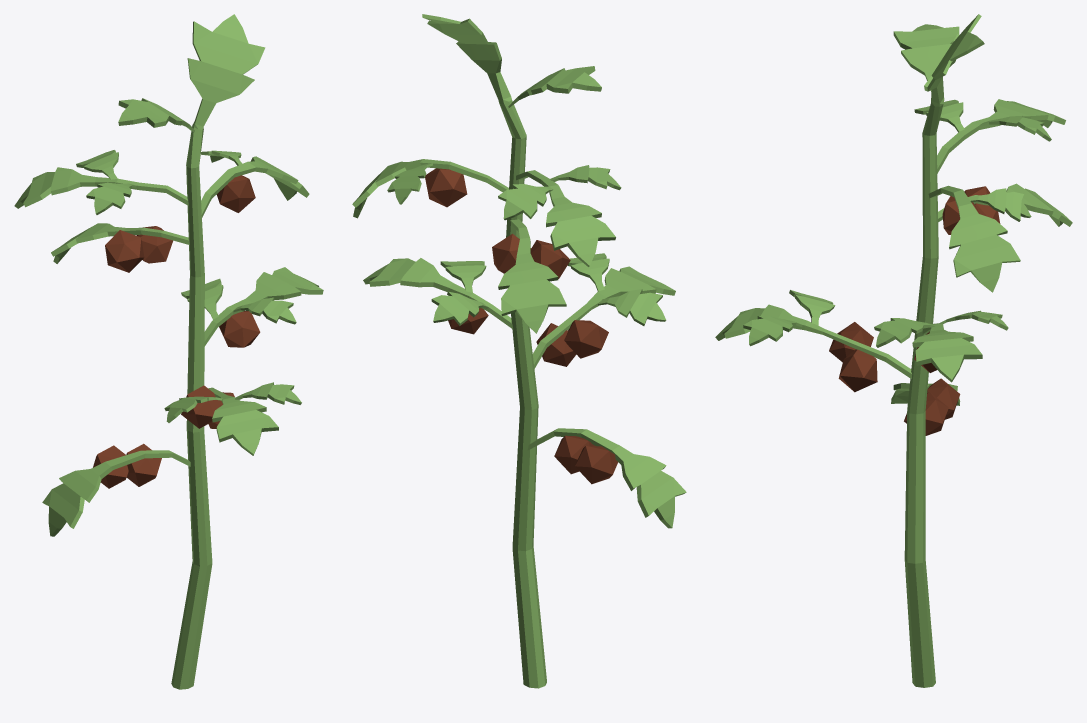
Rendered from fruit.gltf.
3 renders of one model, left to right at view 1: azimuth 30°, elevation 25°; view 2: azimuth 150°, elevation 25°; view 3: azimuth 270°, elevation 25°, orthographic. The views are drawn at different scales.
Visible parts, largest first — view 1: Icosphere013_1, Icosphere013; view 2: Icosphere013_1, Icosphere013; view 3: Icosphere013_1, Icosphere013.
Boxes of the visible parts, x1,y1,x2,y2 form: Icosphere013_1: [14, 14, 323, 689]; Icosphere013: [93, 175, 260, 488]; Icosphere013_1: [352, 14, 686, 688]; Icosphere013: [425, 168, 618, 484]; Icosphere013_1: [715, 14, 1072, 687]; Icosphere013: [829, 186, 1000, 435].
Bounding box in the file's own units: 0.7932 × 1.77 × 0.81.
